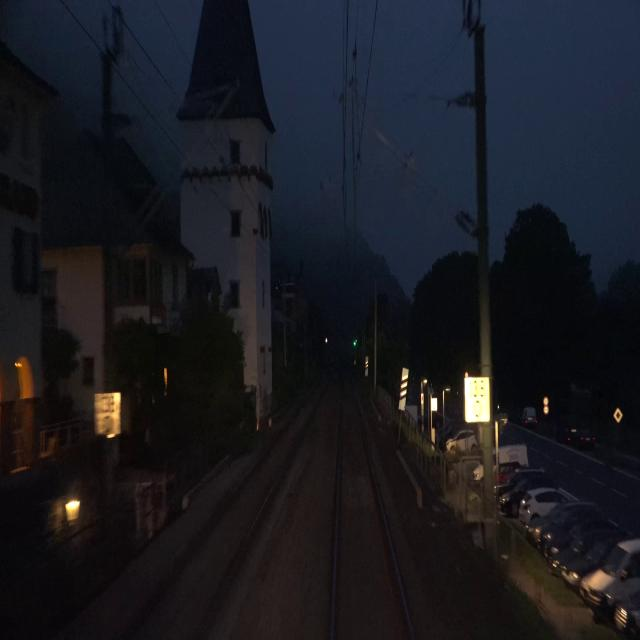rail-track: (128, 380, 326, 639), (335, 370, 409, 639)
